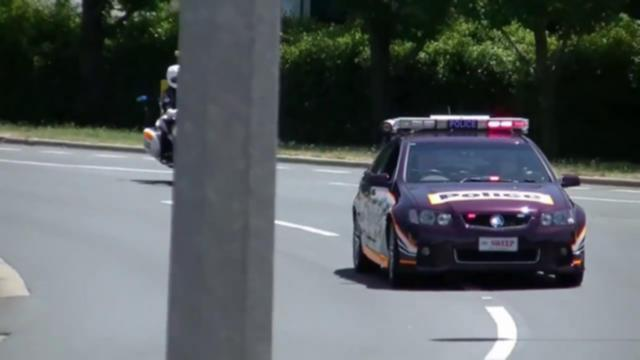police: (352, 111, 591, 292)
